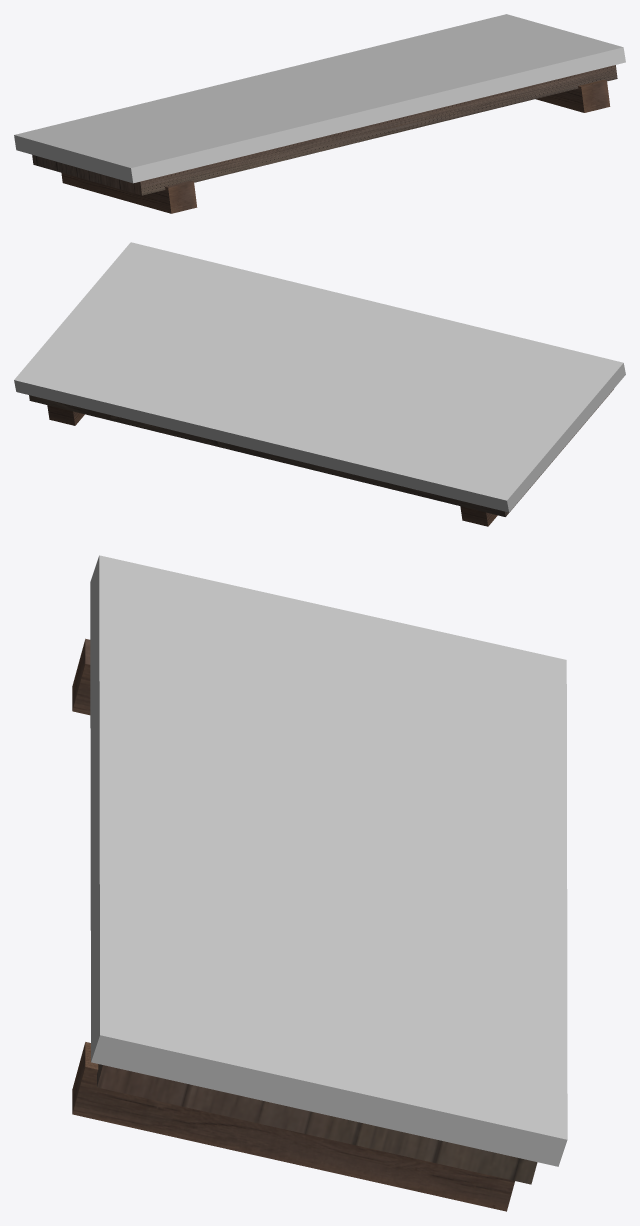
Rendered from jovhouse_sunshade01ba.fbx.
3 renders of one model, top to bottom at view 1: azimuth 30°, elevation 25°; view 2: azimuth 150°, elevation 25°; view 3: azimuth 270°, elevation 25°, orthographic. The views are drawn at different scales.
Parts seen in each view (by area): view 1: jovhouse_sunshade01ba; view 2: jovhouse_sunshade01ba; view 3: jovhouse_sunshade01ba.
Part boxes in pixels (box(x1,y1,x2,y2)): jovhouse_sunshade01ba: box(14, 14, 625, 213); jovhouse_sunshade01ba: box(14, 242, 625, 526); jovhouse_sunshade01ba: box(72, 555, 567, 1211).
Size of the model in its own units: 227 by 43.17 by 98.64.
